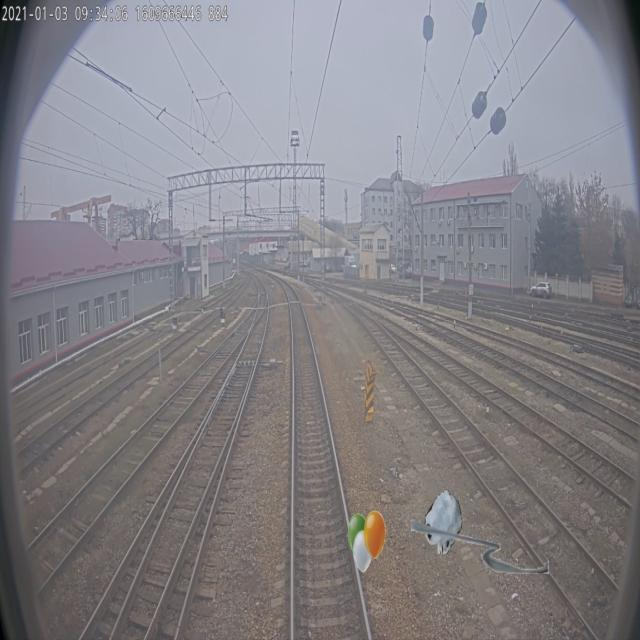balloon: (347, 510, 386, 574)
floating object: (410, 515, 549, 579)
plastic bag: (423, 489, 462, 554)
